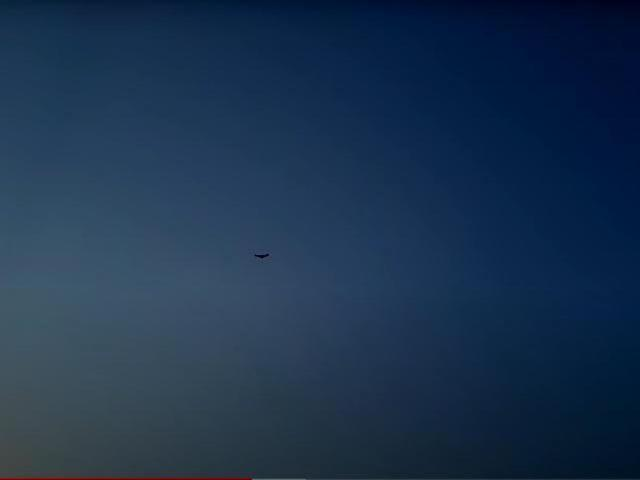iha: (254, 252, 270, 259)
